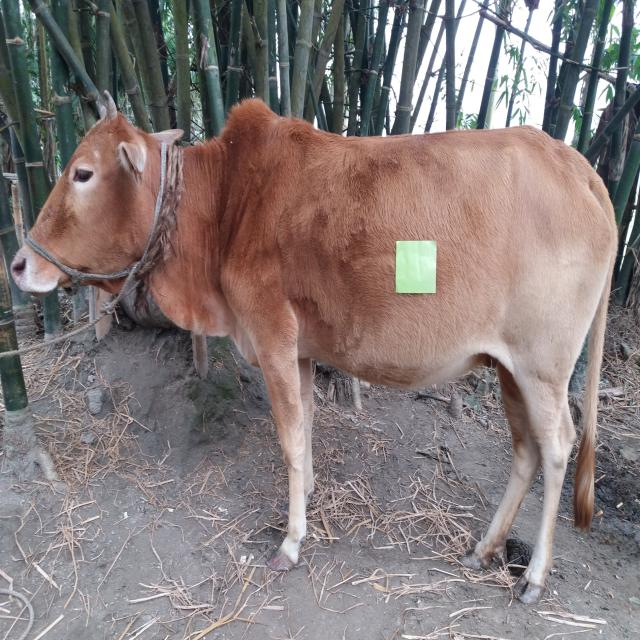badan_sapi: (259, 130, 588, 378)
sapi: (8, 76, 628, 616)
